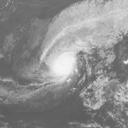cyclone: (51, 53, 75, 81)
